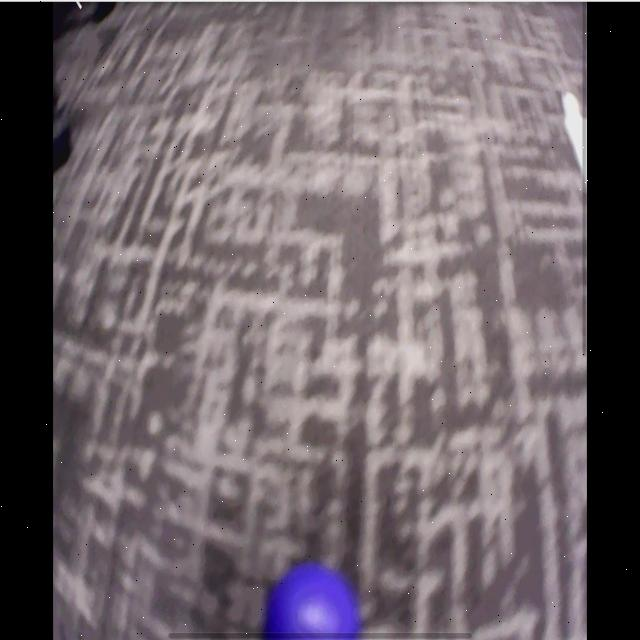ball: (266, 566, 359, 640)
